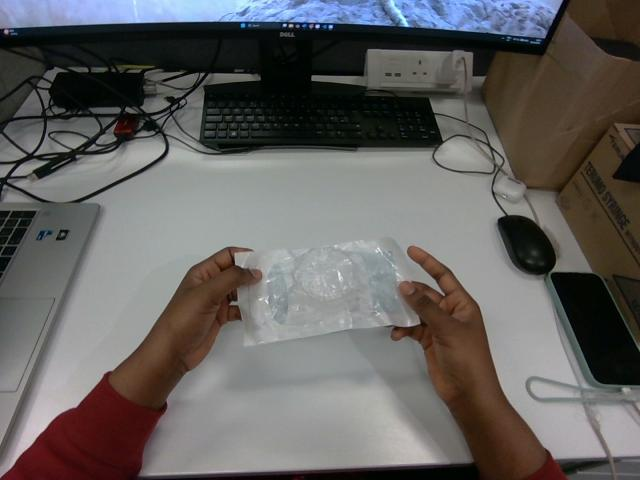gallipot: (235, 238, 418, 344)
